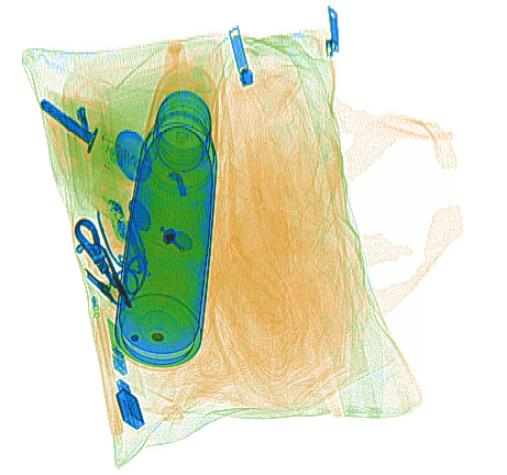USBFlashDisk: (113, 378, 146, 430), (105, 317, 131, 374)
